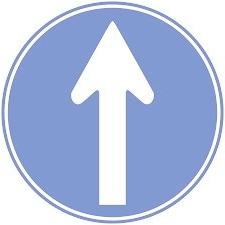Direction_sign: (2, 2, 221, 221)
